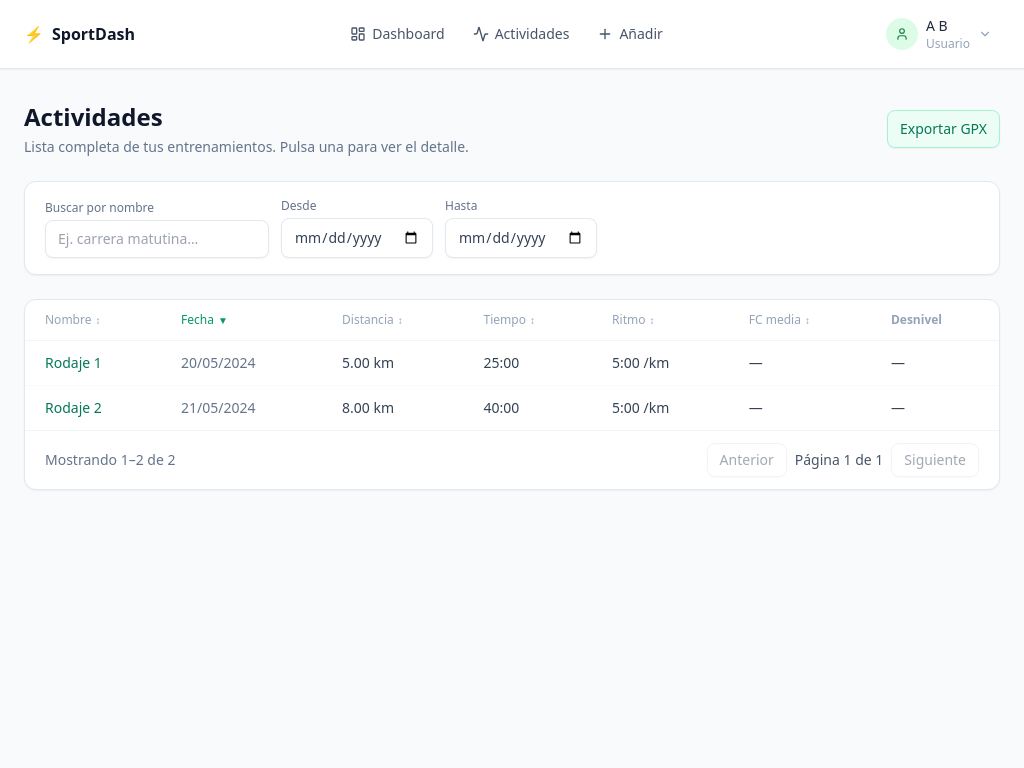
Test: ActivitiesPage — modo selección y exportación GPX › "Seleccionar todas" marca todas las filas visibles
Check: the link "Rodaje 1" is shown, box [45,353,102,372]
Click the button "Exportar GPX" at (944, 129), box [887,110,1000,148]
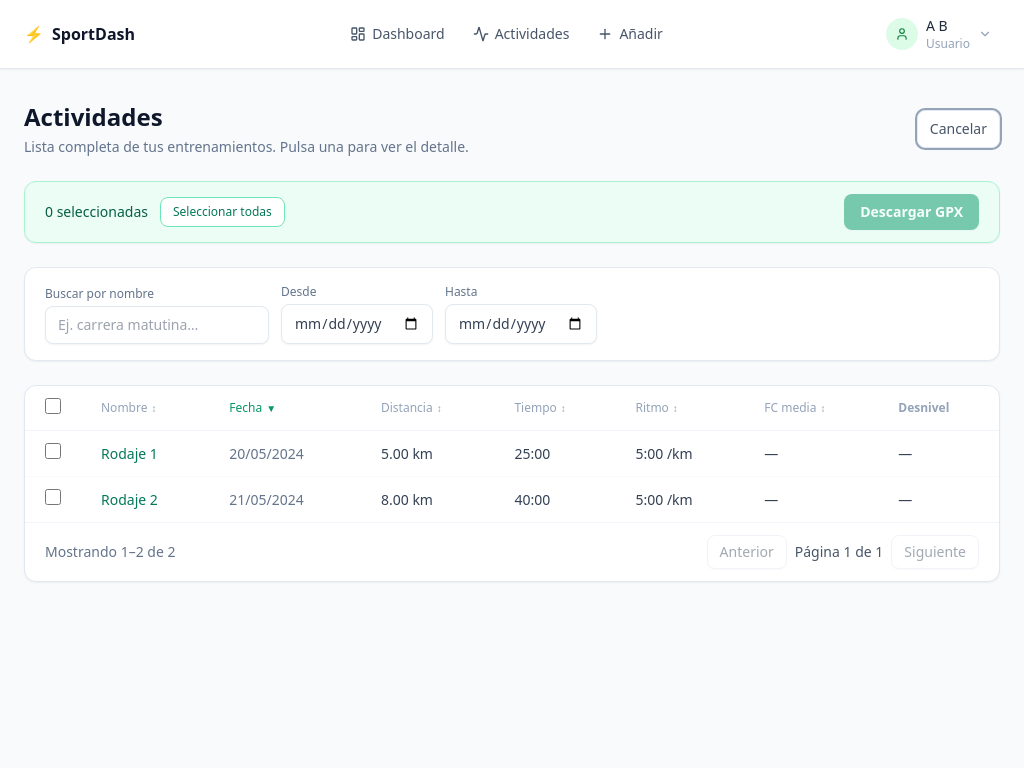
Click the button "Seleccionar todas" at (222, 212), box [160,197,285,227]
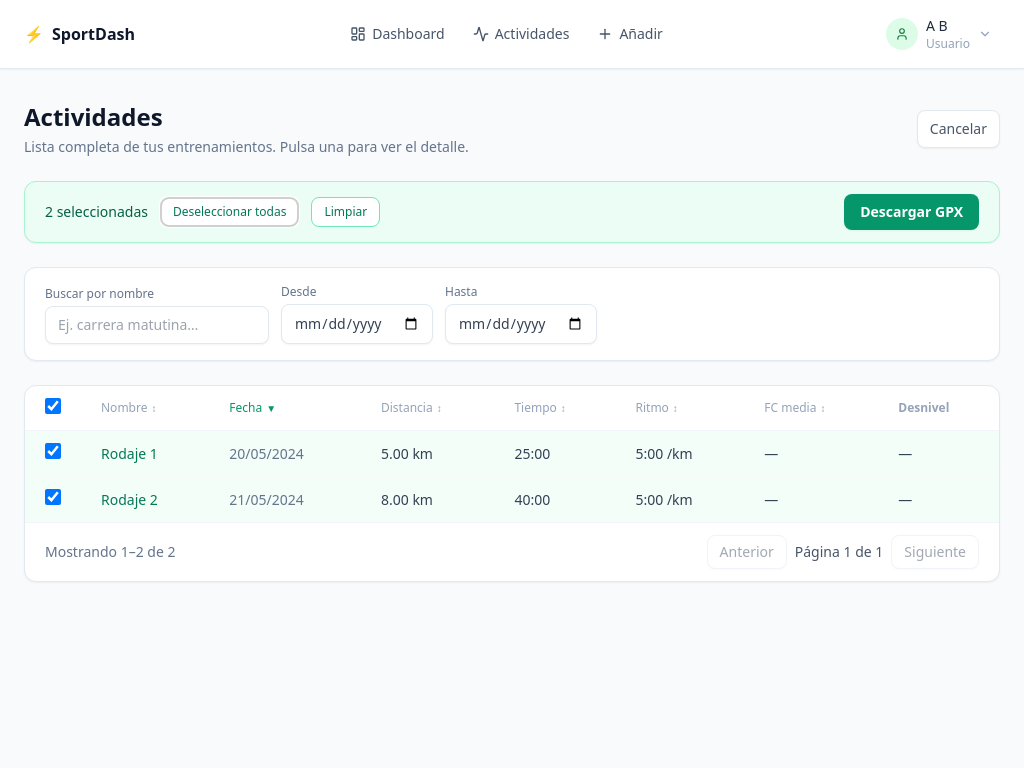
Check: the text "2 seleccionadas" is shown, box [45,202,148,222]
